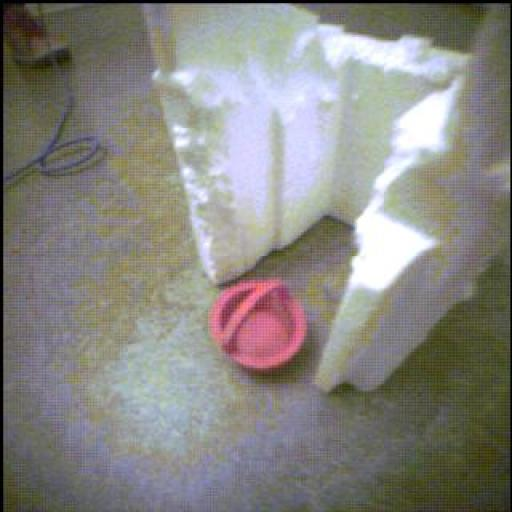Bucket: (211, 281, 308, 371)
